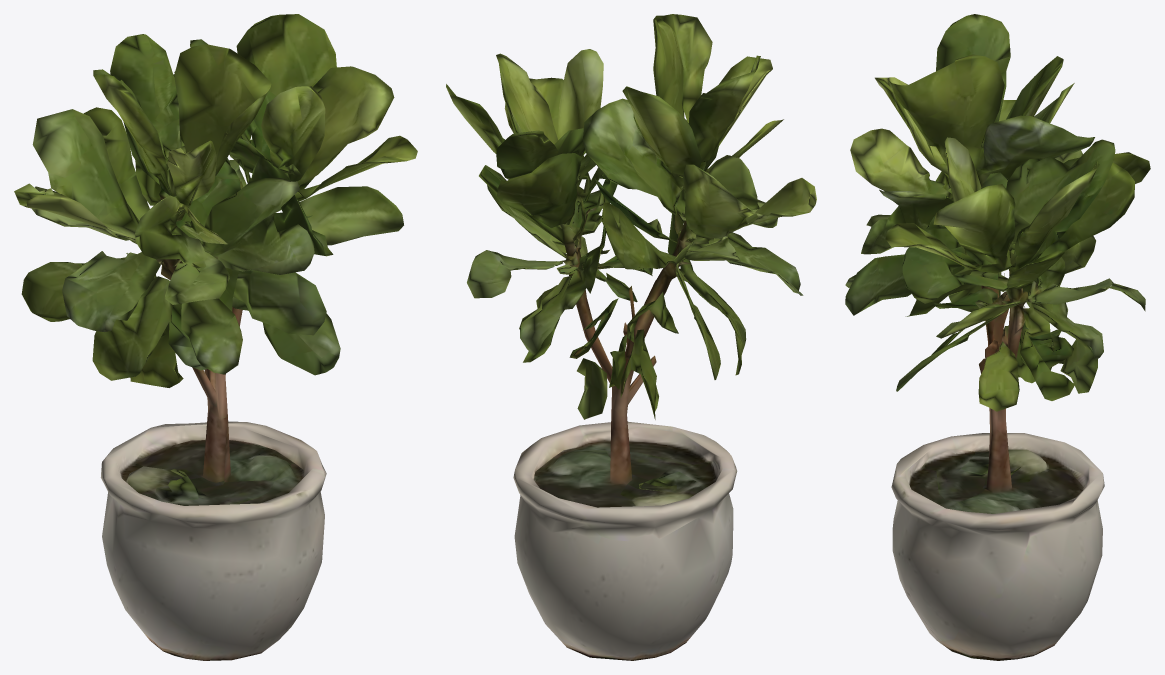
File: plant.d4e2ed62.glb
The picture shows the model from 3 angles, left to right: view 1: azimuth 30°, elevation 25°; view 2: azimuth 150°, elevation 25°; view 3: azimuth 270°, elevation 25°; orthographic projection. The views are drawn at different scales.
Parts seen in each view (by area): view 1: tripo_node_fdcb9d70-4439-4eae-a74e-c3c8e00846cb; view 2: tripo_node_fdcb9d70-4439-4eae-a74e-c3c8e00846cb; view 3: tripo_node_fdcb9d70-4439-4eae-a74e-c3c8e00846cb.
Part boxes in pixels (bbox=[...]): tripo_node_fdcb9d70-4439-4eae-a74e-c3c8e00846cb: bbox=[14, 14, 417, 660]; tripo_node_fdcb9d70-4439-4eae-a74e-c3c8e00846cb: bbox=[446, 14, 816, 660]; tripo_node_fdcb9d70-4439-4eae-a74e-c3c8e00846cb: bbox=[845, 14, 1150, 660].
Size of the model in its own units: 0.4493 by 0.7386 by 0.357.
Materials: 1 (1 with a texture image).
